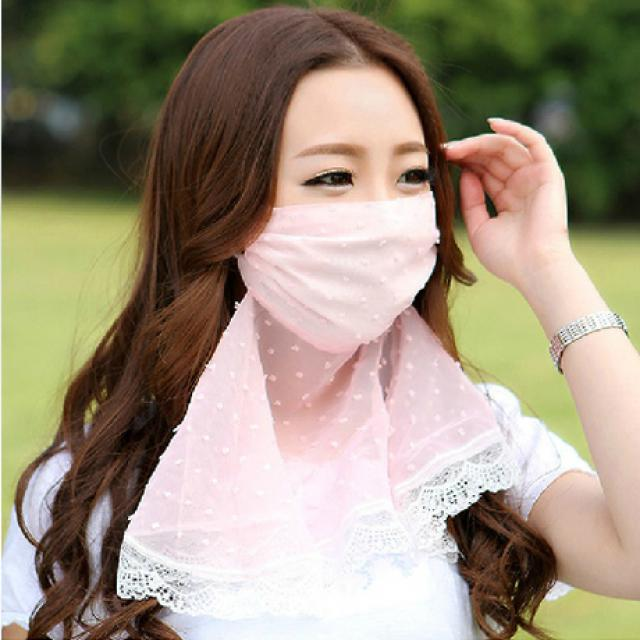mask: (256, 67, 437, 326)
